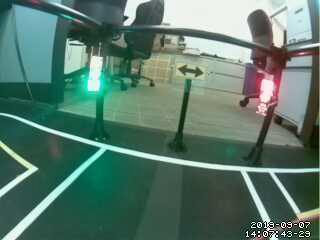Left_Right_sign: (171, 57, 212, 82)
Traffic_light_green: (84, 59, 103, 95)
Traffic_light_red: (256, 64, 276, 116)
